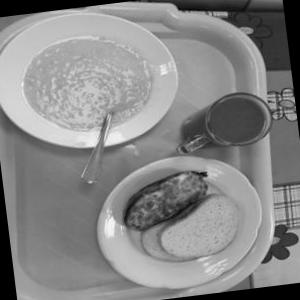bread: (134, 184, 248, 274)
cheese_sandwich: (112, 161, 215, 236)
coffee: (174, 80, 284, 174)
porridge: (12, 28, 162, 142)
